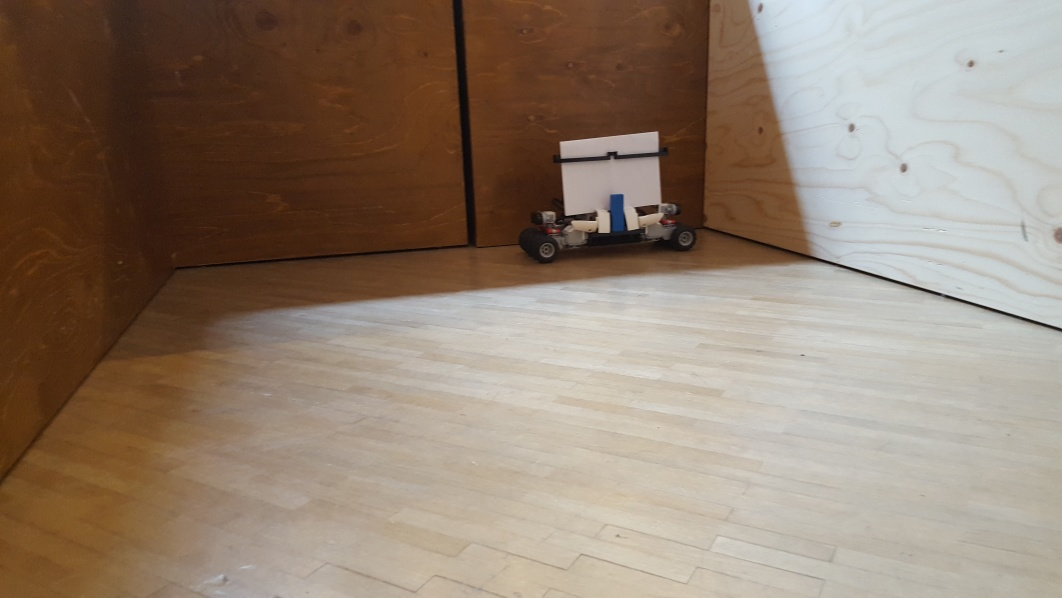car: (520, 131, 696, 261)
